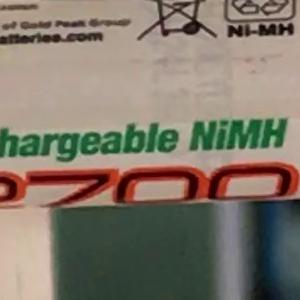NIMH: (180, 109, 297, 161)
